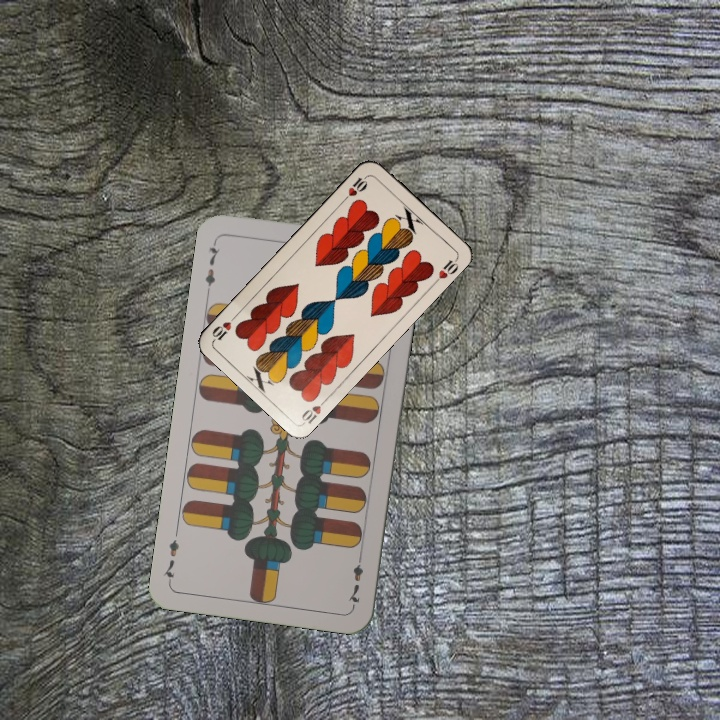E7: (344, 549, 366, 609), (201, 237, 222, 296)
H10: (298, 393, 331, 426), (339, 172, 370, 205)
